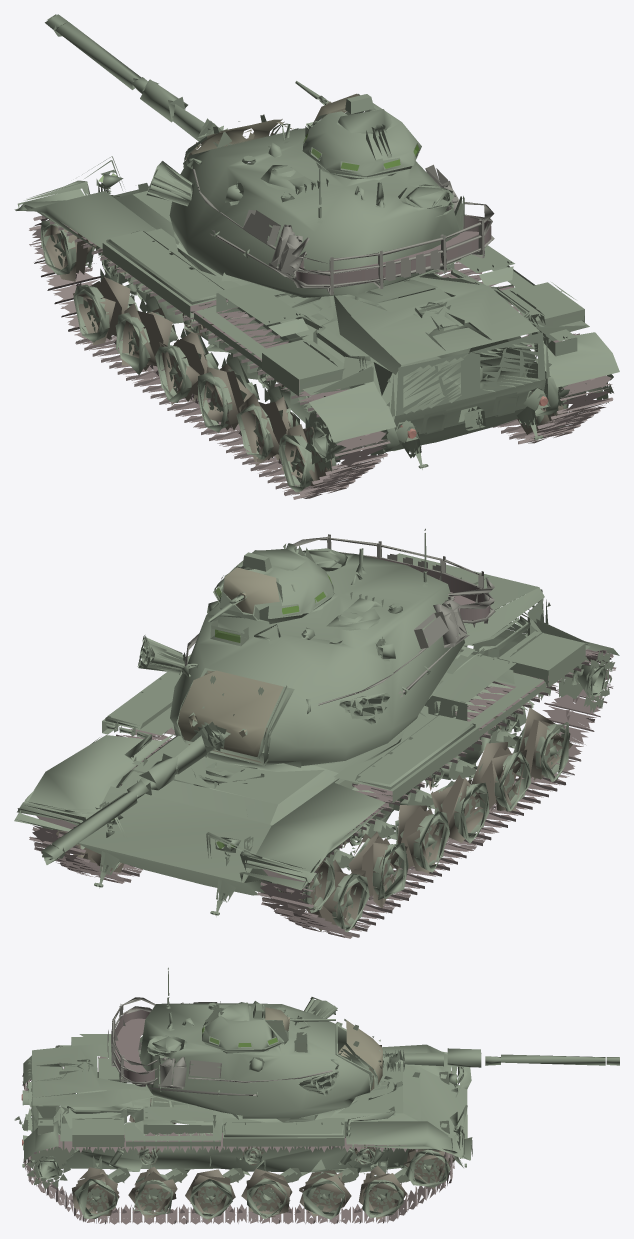
The model's file is type_m60a3.glb.
3 renders of one model, top to bottom at view 1: azimuth 30°, elevation 25°; view 2: azimuth 150°, elevation 25°; view 3: azimuth 270°, elevation 25°, orthographic. The views are drawn at different scales.
Parts seen in each view (by area): view 1: Object_10; view 2: Object_10; view 3: Object_10.
Boxes of the visible parts, box(x1,y1,x2,y2) form: Object_10: box(14, 14, 619, 499); Object_10: box(14, 528, 619, 938); Object_10: box(14, 967, 619, 1224).
Size of the model in its own units: 3.66 by 3.3 by 9.39.
2 materials, 2 textured.
